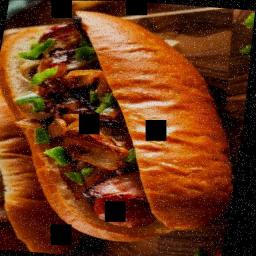hotdog: (0, 6, 256, 250)
